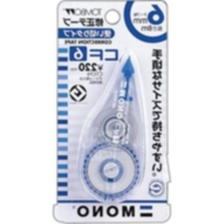book: (50, 0, 171, 223)
correction_fluid: (75, 50, 149, 205)
